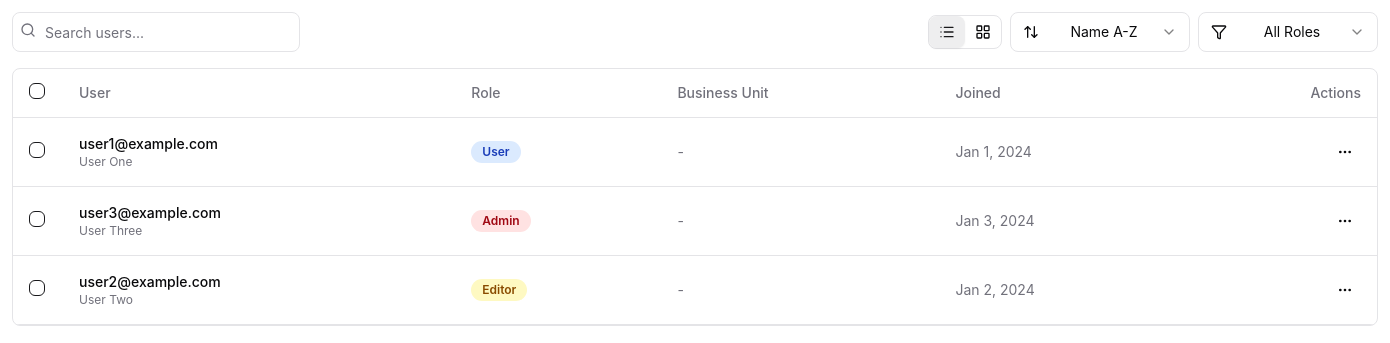
Test: UsersTable › Table View - Dropdown Menu Layout Stability › opens dropdown menu when action button is clicked
Click the button named "open menu" in the row of "user1@example.com" at (1345, 152), box [1329,136,1361,168]
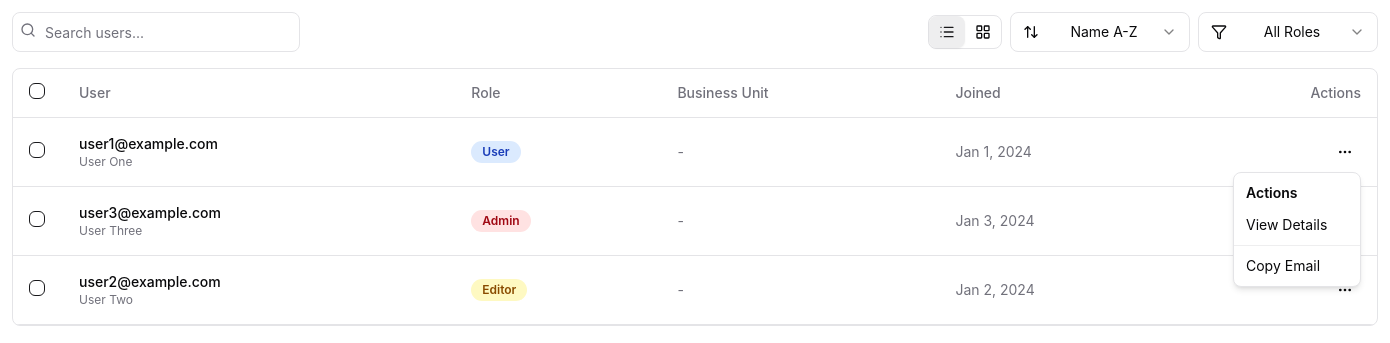
expect the menu is shown: met, box [1233,172,1361,287]
expect the menu item "View Details" is shown: met, box [1246,216,1327,233]
